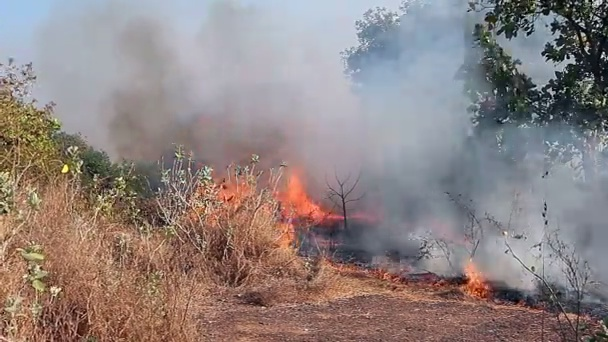fire: (288, 177, 317, 216), (465, 265, 482, 295)
